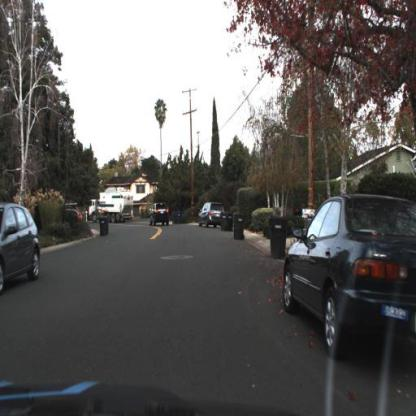car: (284, 193, 416, 370), (1, 203, 41, 294), (199, 201, 224, 230), (149, 203, 170, 227)
truck: (89, 188, 136, 223)
